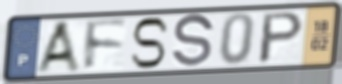0: (215, 11, 259, 69)
A: (33, 19, 84, 75)
F: (84, 18, 130, 74)
P: (255, 10, 307, 67)
S: (170, 11, 217, 71), (128, 16, 171, 71)
